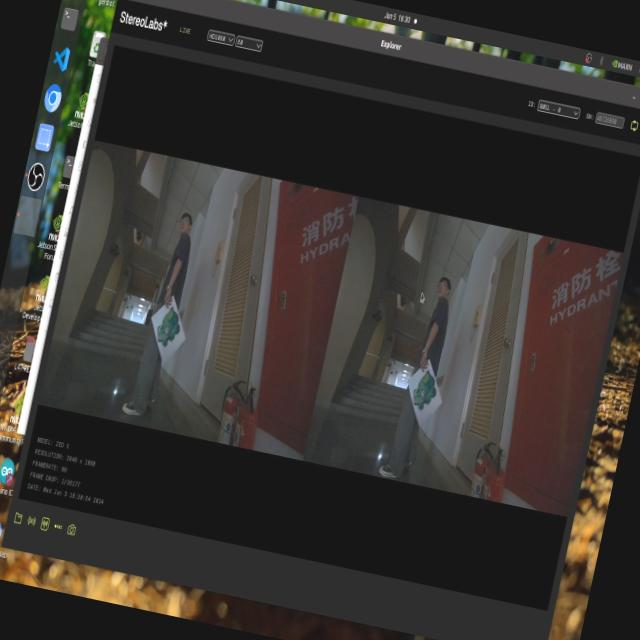green: (412, 376, 444, 416), (153, 306, 180, 350)
